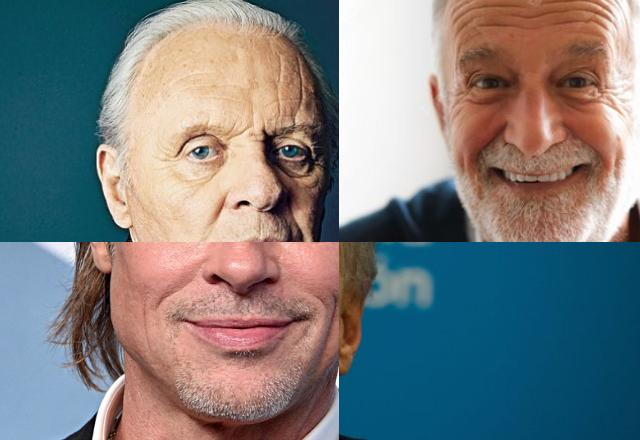crows_feet: (594, 76, 618, 112), (155, 140, 175, 172), (450, 82, 472, 110)
forehead: (576, 0, 610, 32), (537, 0, 571, 30), (477, 15, 523, 34), (450, 0, 471, 38), (292, 69, 308, 115), (269, 69, 285, 112), (477, 0, 523, 12)
frown_line: (226, 123, 246, 140)
gummy_smile: (151, 278, 193, 304), (286, 198, 306, 240), (476, 128, 504, 156), (210, 189, 230, 223)
masseter: (323, 296, 339, 364), (139, 310, 155, 354)
